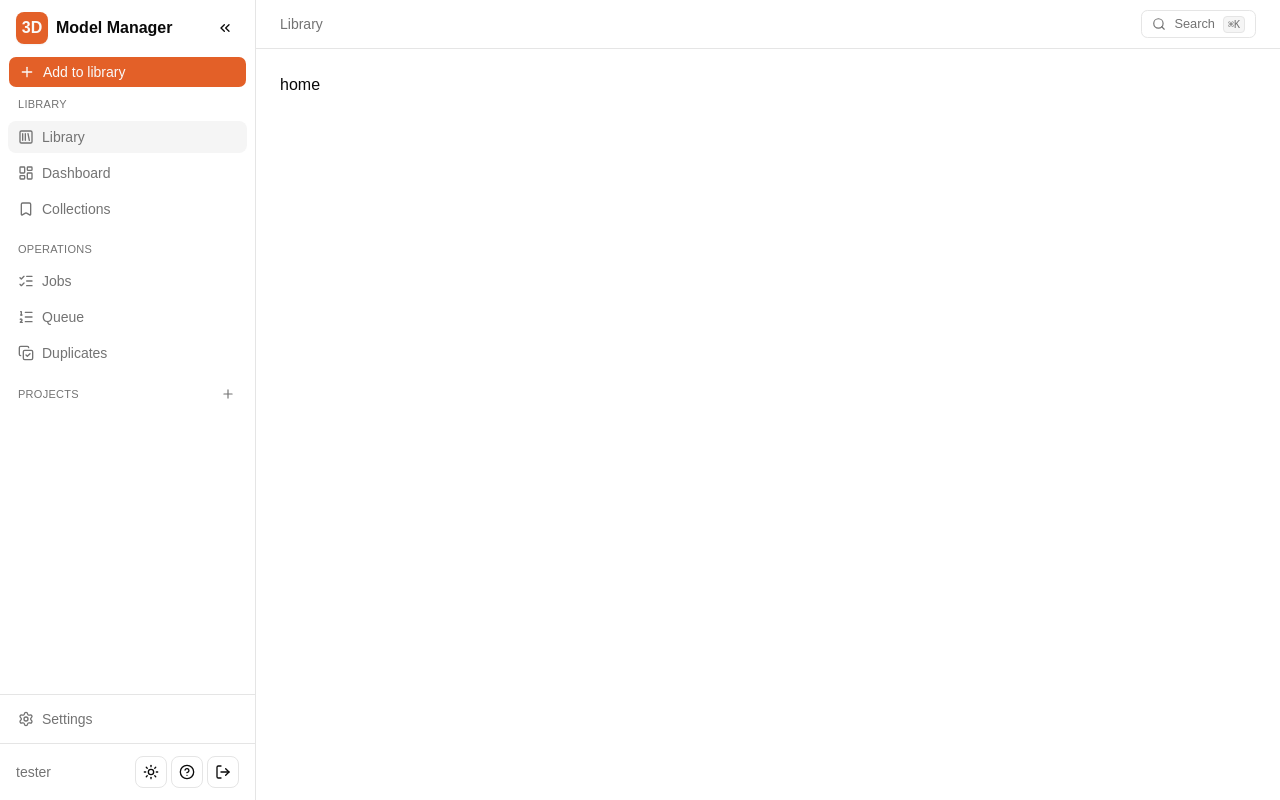
AppShell keyboard shortcuts dialog (R9-C item 5) › the sidebar's Keyboard shortcuts button opens the same dialog
expect the link "Library" is shown: met, box [8,120,247,152]
Click the button named "Keyboard shortcuts". click: (187, 772)
box: [171,756,203,788]
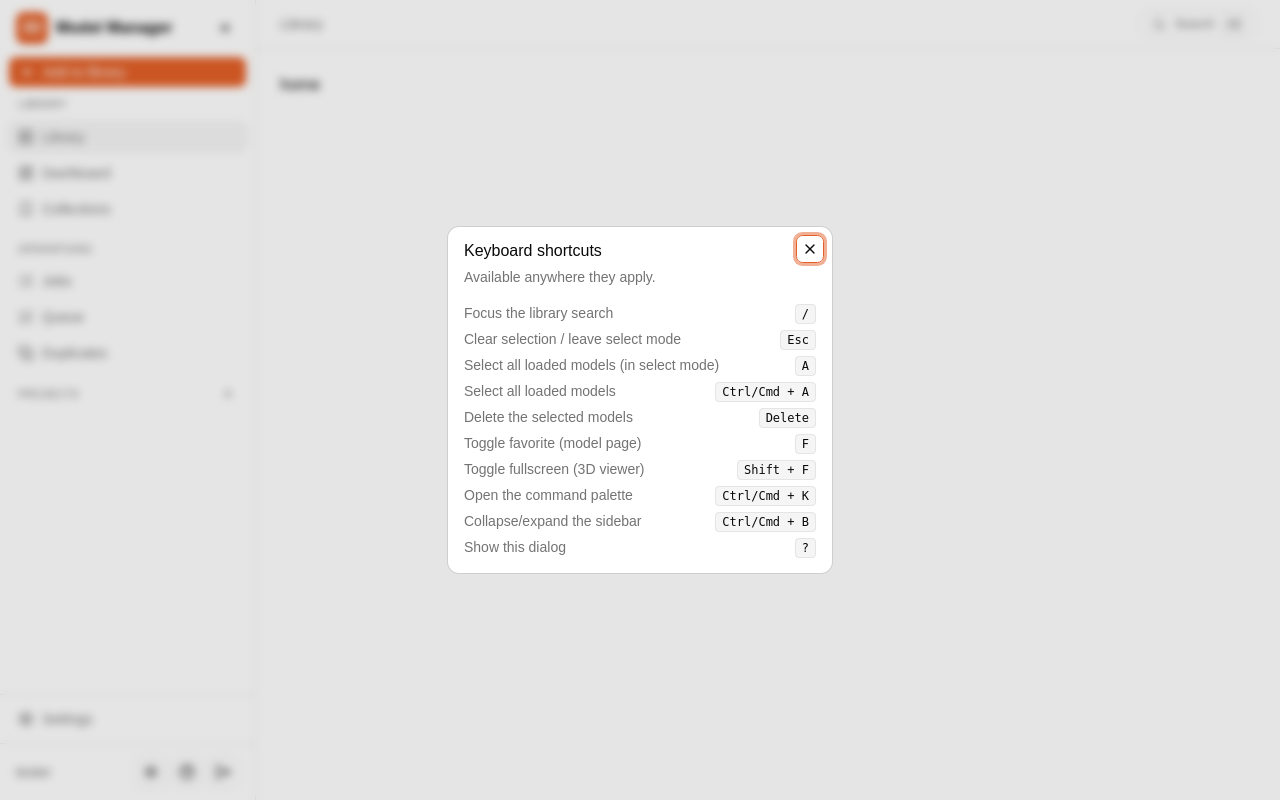
expect the dialog is shown: met, box [448,227,832,573]
